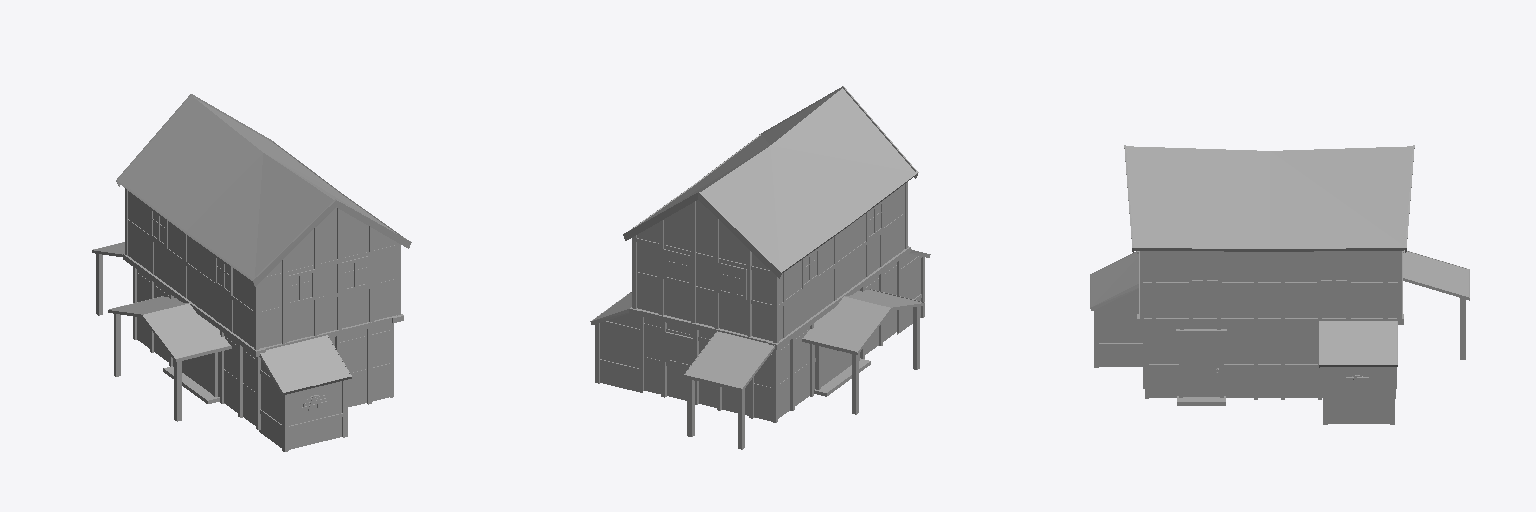
Rendered from AUW83LAUSNW49K7G2O3T25CWW.obj.
3 renders of one model, left to right at view 1: azimuth 30°, elevation 25°; view 2: azimuth 150°, elevation 25°; view 3: azimuth 270°, elevation 25°, orthographic.
Parts seen in each view (by area): view 1: Object_Wood.jpg, Object_RoofTiles.jpg, Object_Plaster.jpg, Object_WindowDark2.jpg, Object_DoorType1_2.jpg, Object_Stone.jpg; view 2: Object_Wood.jpg, Object_RoofTiles.jpg, Object_Plaster.jpg, Object_WindowDark2.jpg, Object_DoorType1_2.jpg, Object_Stone.jpg; view 3: Object_RoofTiles.jpg, Object_Wood.jpg, Object_Plaster.jpg, Object_DoorType1_1.jpg, Object_WindowDark2.jpg.
Part boxes in pixels (x1,y1,x2,y2): Object_Wood.jpg: (92,94,411,451); Object_RoofTiles.jpg: (95,96,393,391); Object_Plaster.jpg: (137,270,389,449); Object_WindowDark2.jpg: (153,212,366,301); Object_DoorType1_2.jpg: (182,353,212,394); Object_Stone.jpg: (163,366,219,403); Object_Wood.jpg: (590,86,930,449); Object_RoofTiles.jpg: (594,88,915,387); Object_Plaster.jpg: (600,254,920,421); Object_WindowDark2.jpg: (666,205,880,294); Object_DoorType1_2.jpg: (821,347,851,386); Object_Stone.jpg: (814,358,870,396); Object_RoofTiles.jpg: (1091,146,1468,364); Object_Wood.jpg: (1090,145,1469,424); Object_Plaster.jpg: (1099,289,1389,423); Object_DoorType1_1.jpg: (1183,336,1219,396); Object_WindowDark2.jpg: (1192,256,1346,279).
Size of the model in its own units: 1.8 by 1.64 by 2.5.